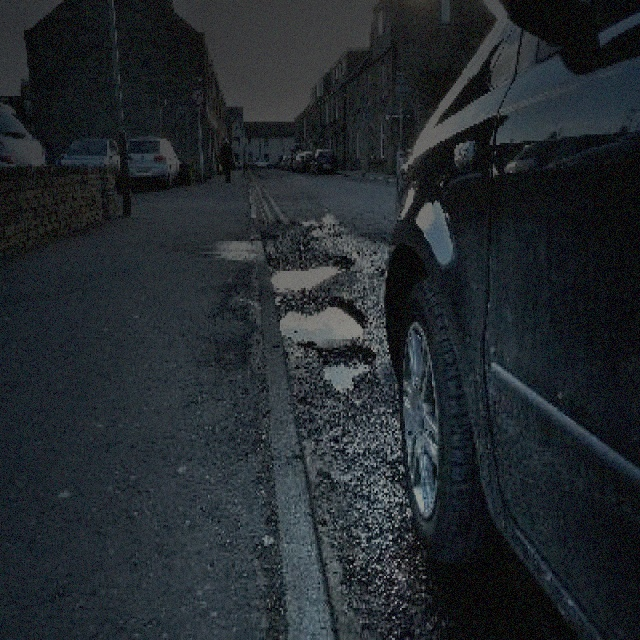pothole: (277, 296, 365, 344), (267, 250, 354, 296), (317, 346, 374, 392)
